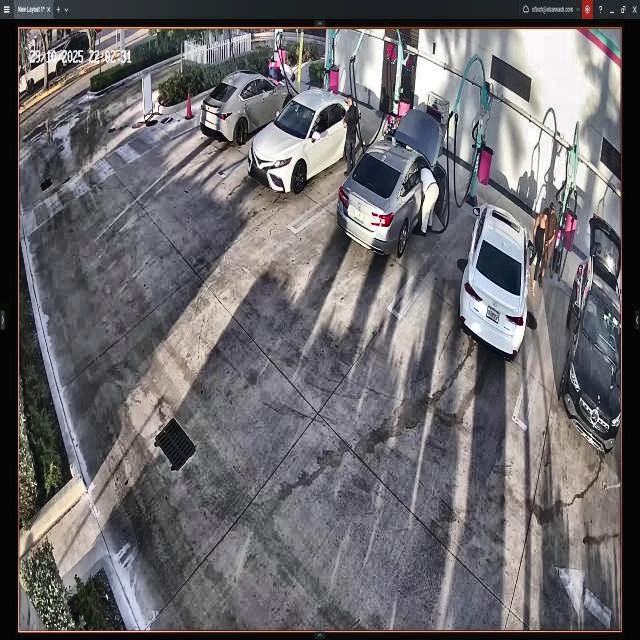Car: (338, 110, 438, 256), (251, 92, 360, 191), (463, 202, 528, 356), (204, 71, 295, 146)
